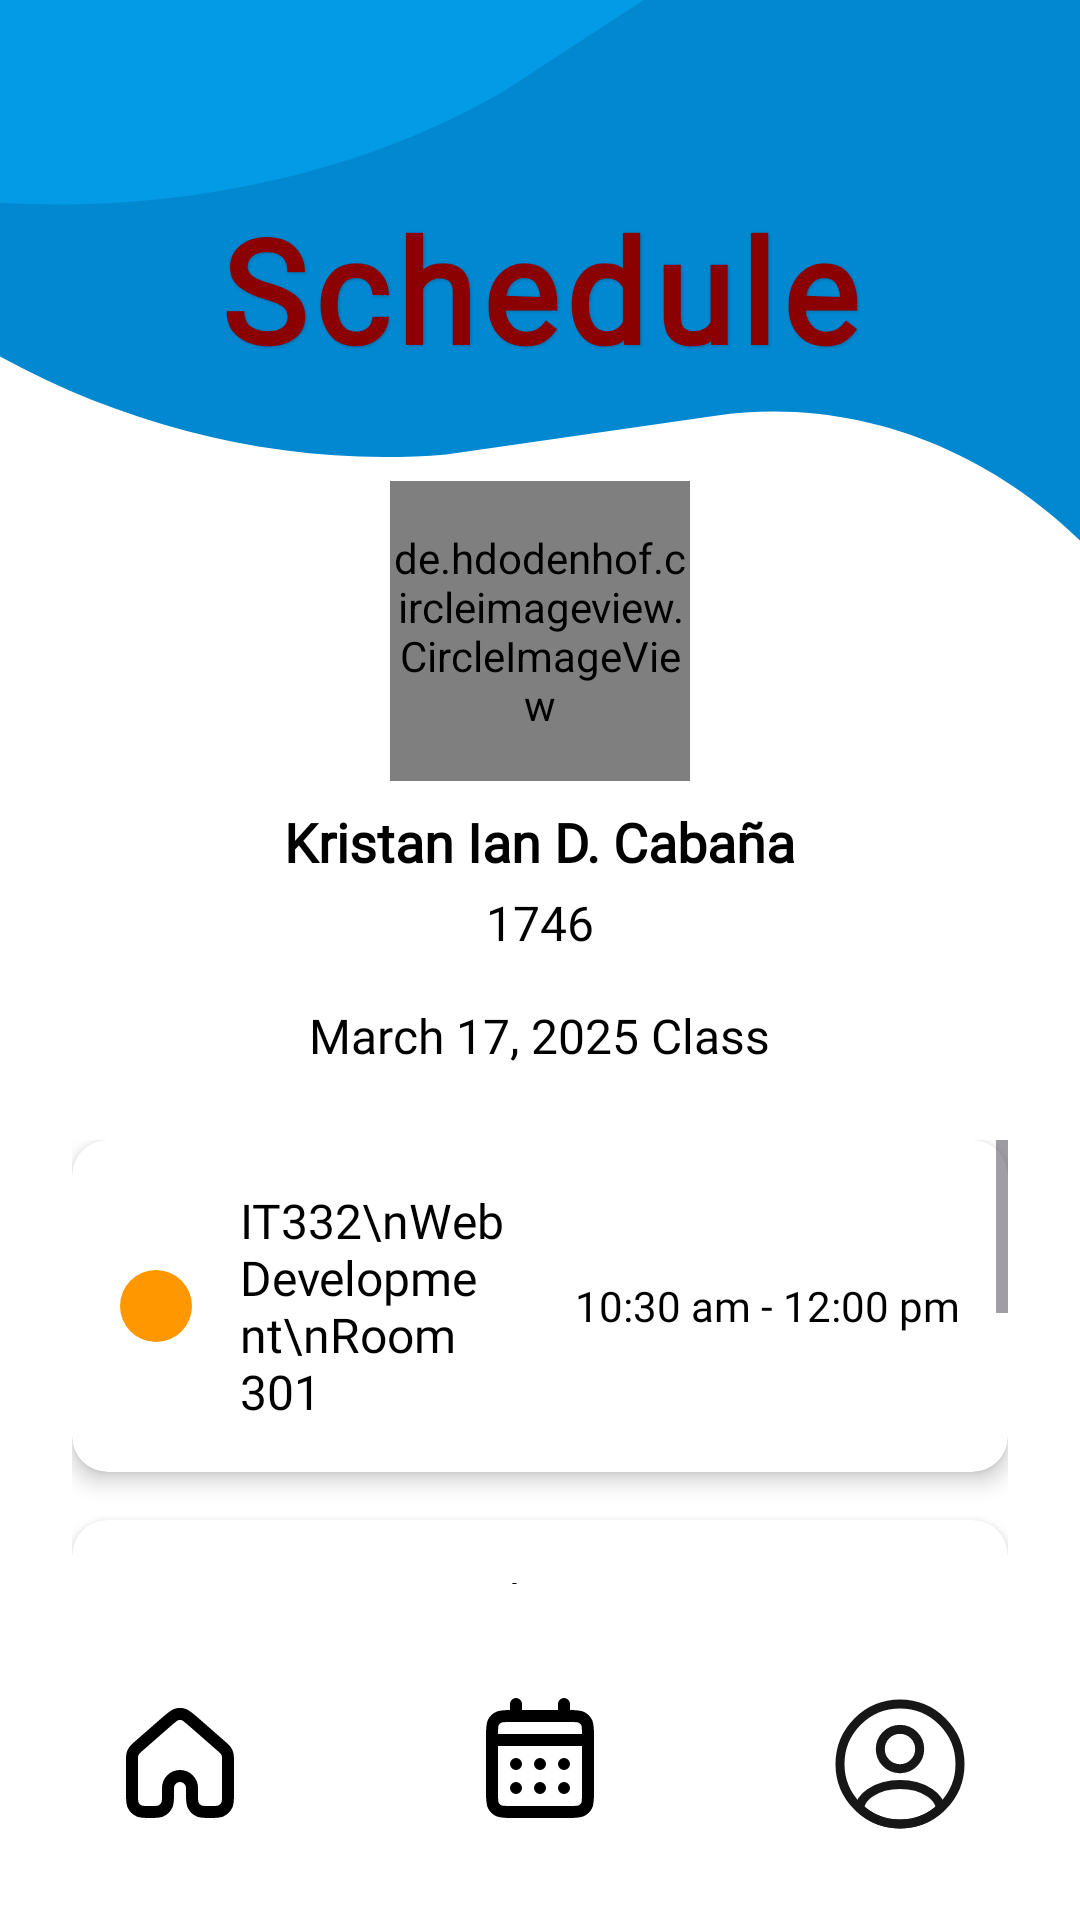

Named icons in this screenshot (1080px×1920px) and their bounding boxes, (x1, y1, x2, y2):
Home: (126, 1708, 234, 1818)
Profile: (835, 1699, 965, 1829)
Schedule: (486, 1698, 594, 1818)
